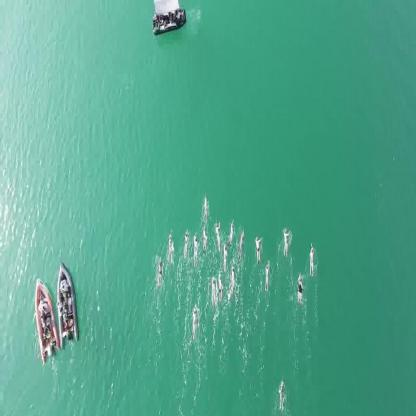Boat: (34, 276, 57, 358), (56, 260, 78, 341)
